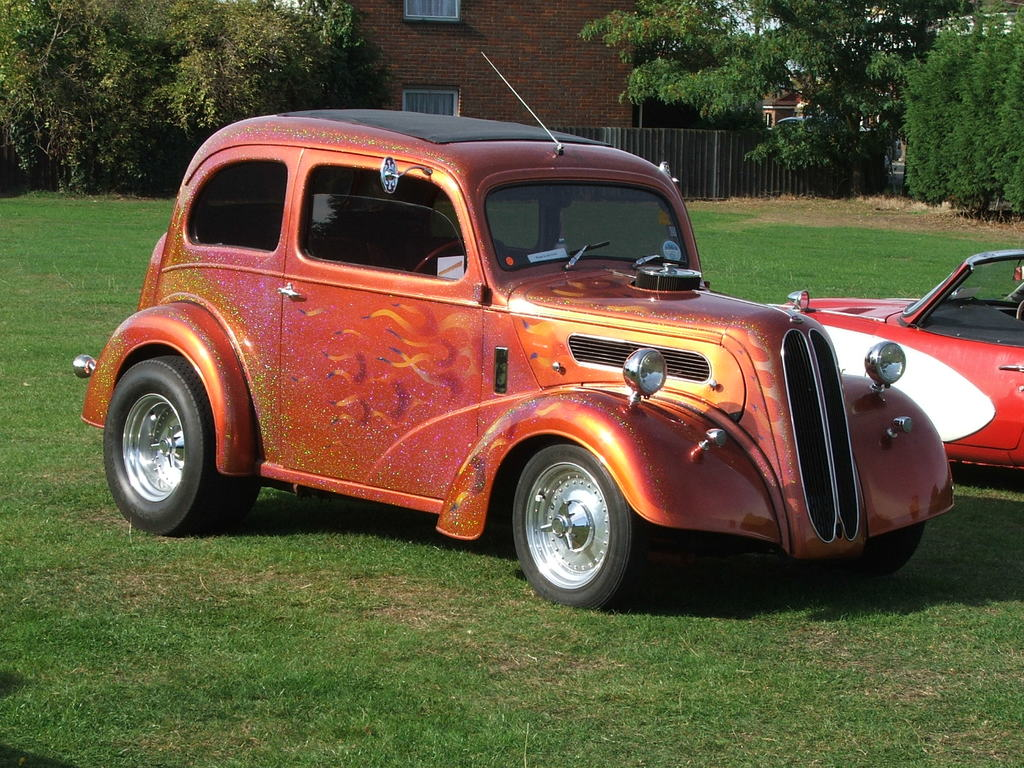Car: (71, 50, 954, 604), (808, 250, 1023, 481)
